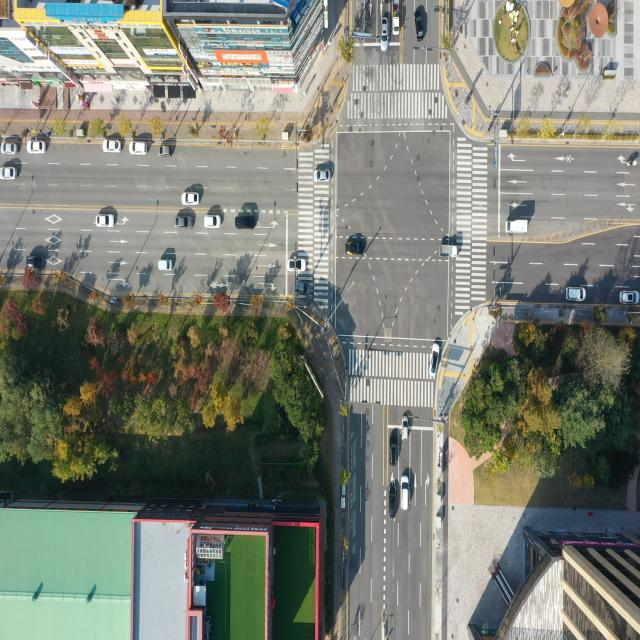car: (428, 341, 440, 378), (389, 478, 397, 518), (400, 476, 409, 511), (566, 286, 586, 301), (346, 240, 364, 256), (96, 213, 115, 228), (104, 139, 123, 154), (28, 140, 47, 155), (236, 215, 256, 229), (390, 430, 398, 465), (381, 17, 389, 52), (131, 141, 149, 156), (27, 256, 46, 270), (205, 214, 222, 229), (176, 216, 194, 230), (182, 191, 200, 205), (621, 290, 640, 303), (0, 167, 16, 182), (416, 8, 424, 38), (314, 170, 331, 184), (1, 142, 19, 155), (288, 260, 304, 274), (159, 145, 176, 158), (295, 281, 311, 294), (160, 261, 173, 274), (401, 415, 408, 439)
small_truck: (508, 218, 530, 234), (441, 244, 460, 259), (392, 0, 400, 34)
